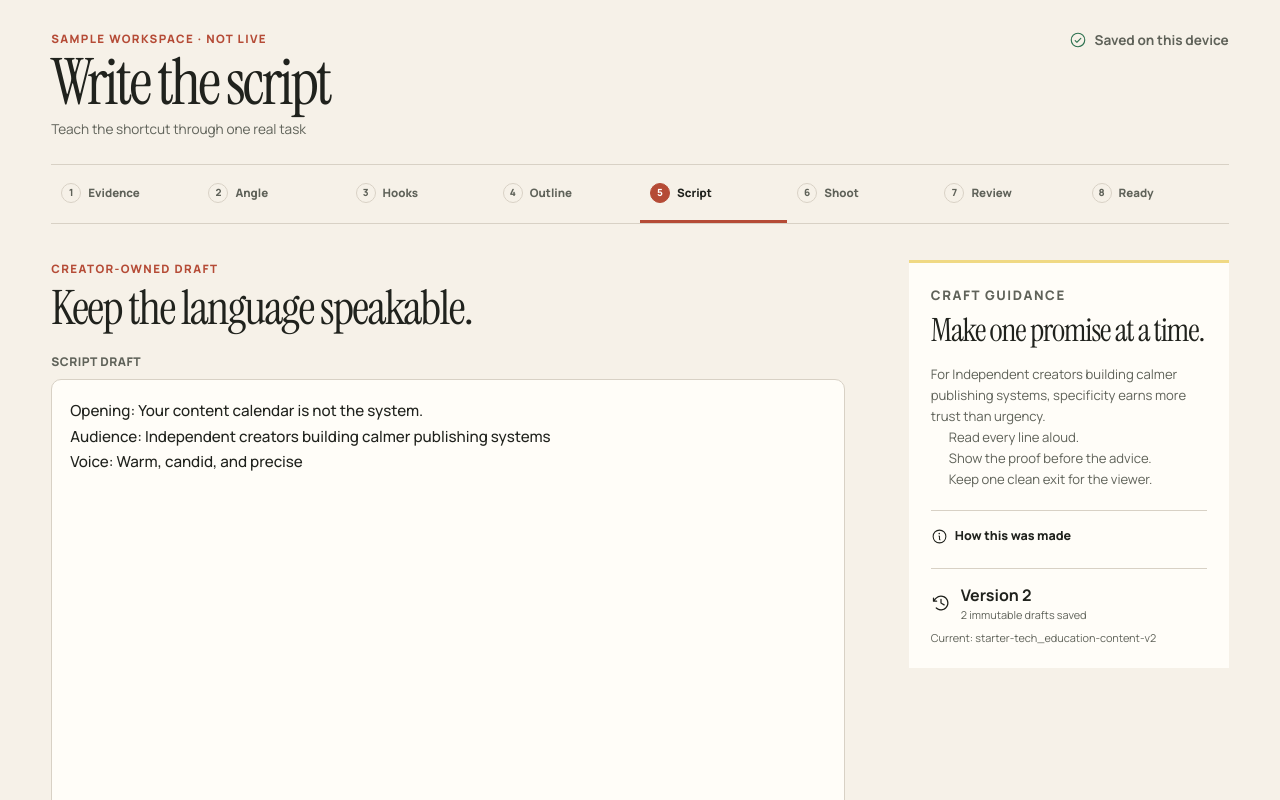
content workshop › blocks Ready for source-required claims until evidence is attached
Click the button "8 Ready" at coordinates (1155, 194), box top-left (1082, 165), bottom-right (1229, 223)
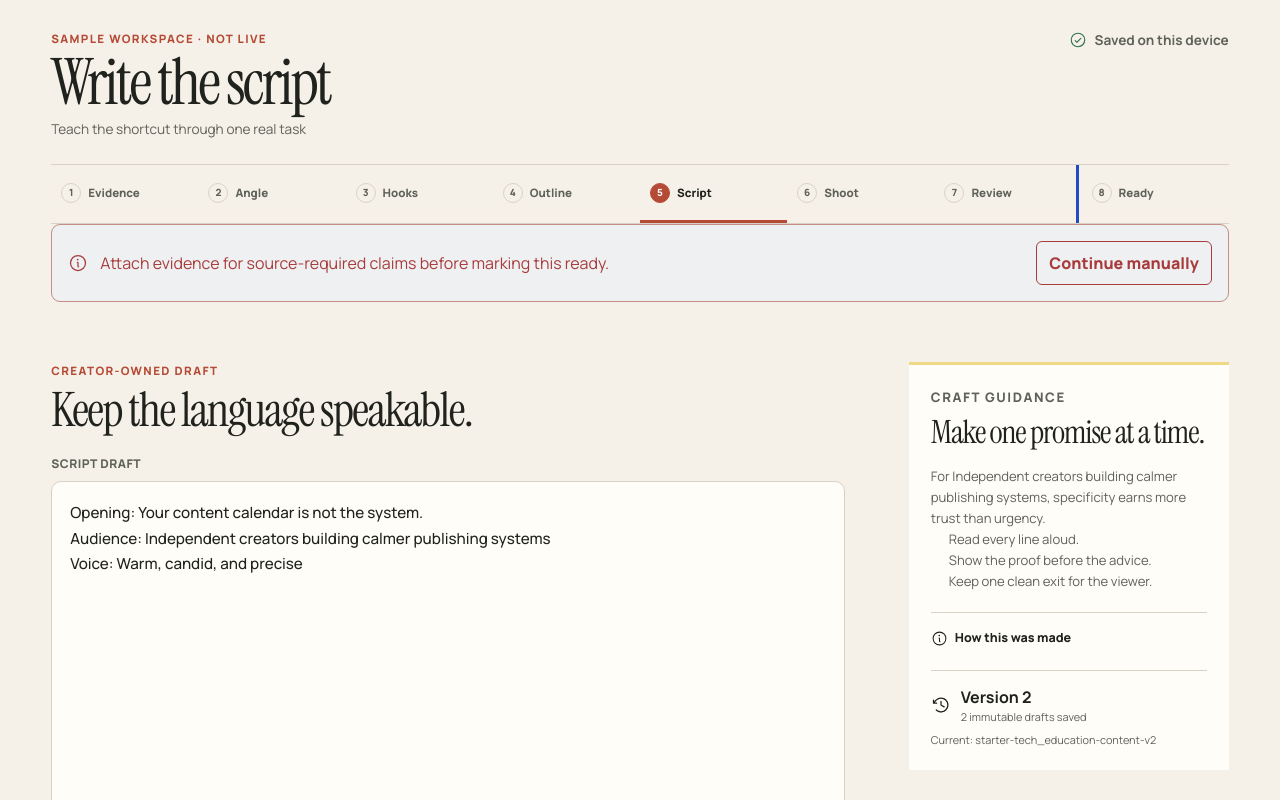
Expected: the message shows "Attach evidence", top-left (100, 252), bottom-right (609, 274)
Expected: the button "Continue manually" is shown, top-left (1036, 241), bottom-right (1212, 285)
